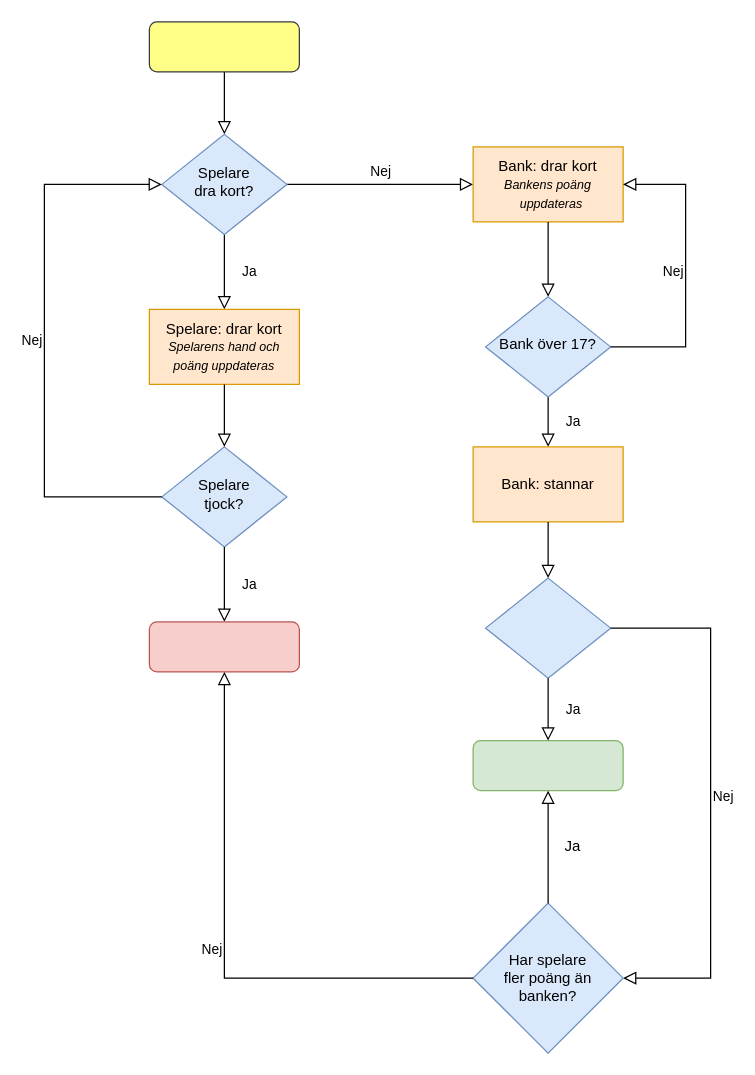
Some shapes in this 755 by 1075 pixel diagram are drawn without their labels. Each missing label, with the centre of its shape:
"Bank tjock?" goes at point 547,627.
"Spelare förlorar" goes at point 223,646.
"Spelare vinner" goes at point 547,765.
"Spelstart" goes at point 223,46.
